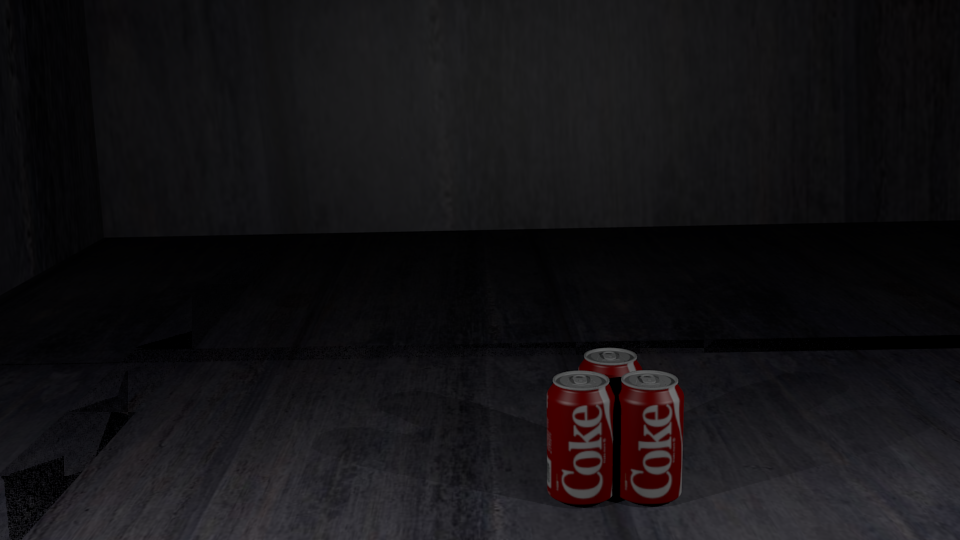cola_can: (547, 371, 614, 501), (615, 371, 683, 499), (579, 348, 641, 470)
